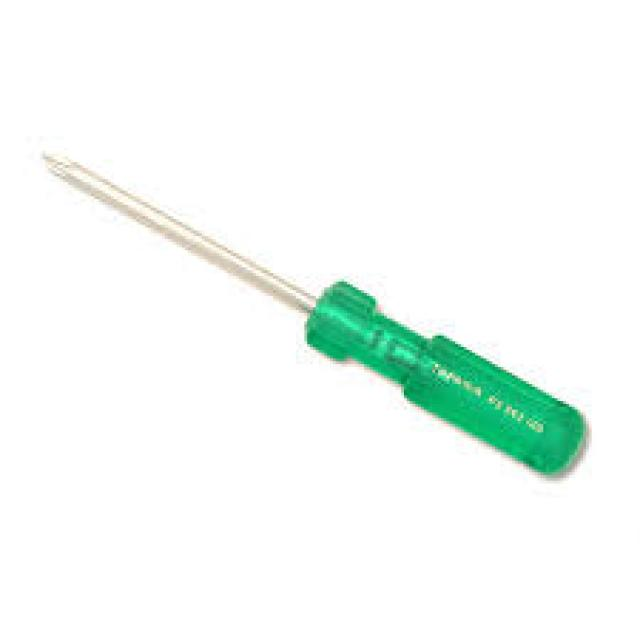screw driver: (19, 119, 610, 577)
